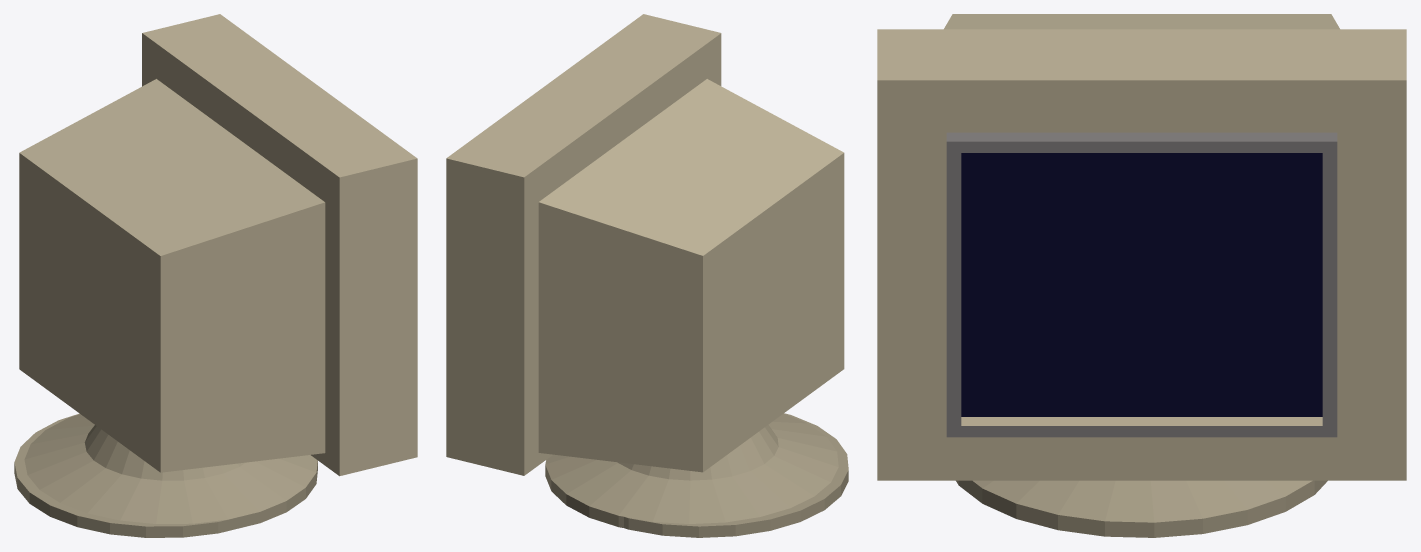
File: 90smonitor_modelingfbx.fbx
3 renders of one model, left to right at view 1: azimuth 30°, elevation 25°; view 2: azimuth 150°, elevation 25°; view 3: azimuth 270°, elevation 25°, orthographic. The views are drawn at different scales.
Visible parts, largest first — view 1: 90smonitor_modelingfbx; view 2: 90smonitor_modelingfbx; view 3: 90smonitor_modelingfbx.
Boxes of the visible parts, x1,y1,x2,y2 form: 90smonitor_modelingfbx: (14,14,417,537); 90smonitor_modelingfbx: (446,14,848,537); 90smonitor_modelingfbx: (877,14,1406,537).
Size of the model in its own units: 410 by 461 by 470.
